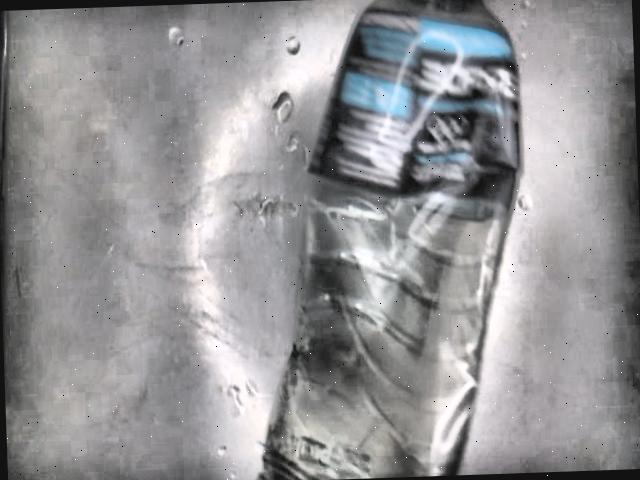Bottles: (259, 0, 520, 480)
